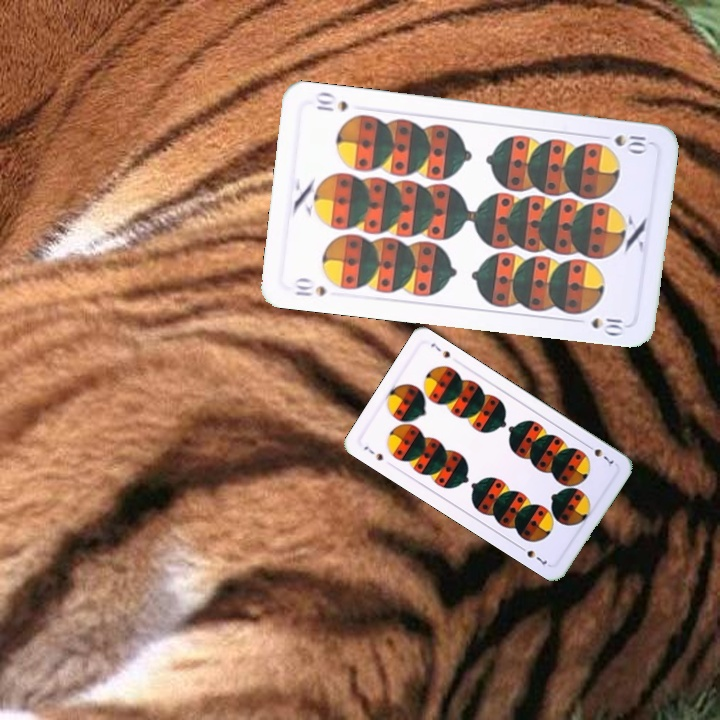S10: (287, 274, 329, 299), (610, 131, 649, 154)
S7: (582, 440, 616, 469), (359, 442, 386, 463)
